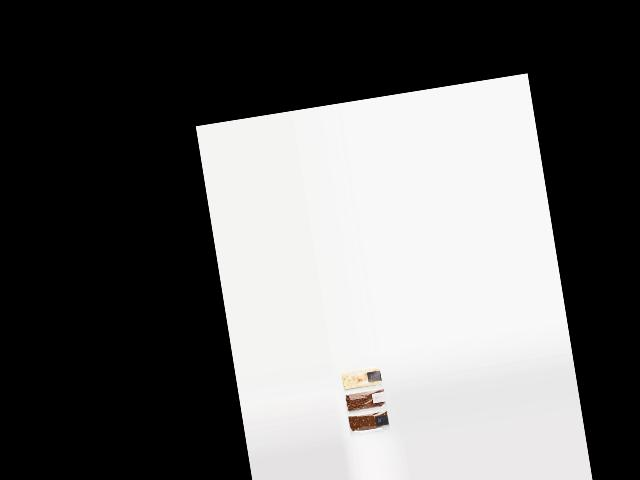chocolate: (343, 409, 389, 439)
